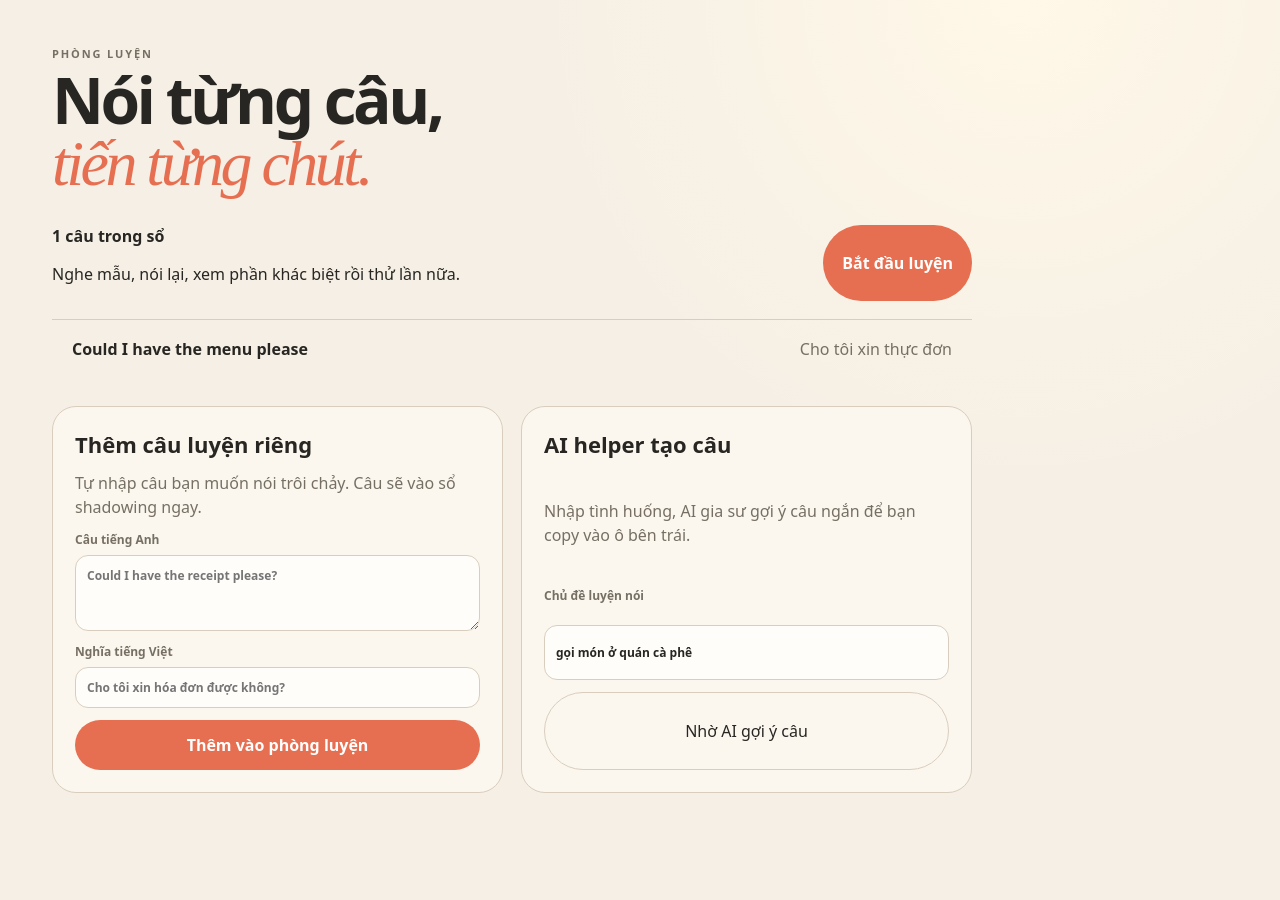
Scenario: PracticePage › starts a sentence session and shows transcript feedback
The width and height of the screenshot is (1280, 900).
Expected: the text "Could I have the menu please" is shown, [72,338,308,360]
Click the button "Bắt đầu luyện". click: (898, 263)
box: [823,225,972,301]
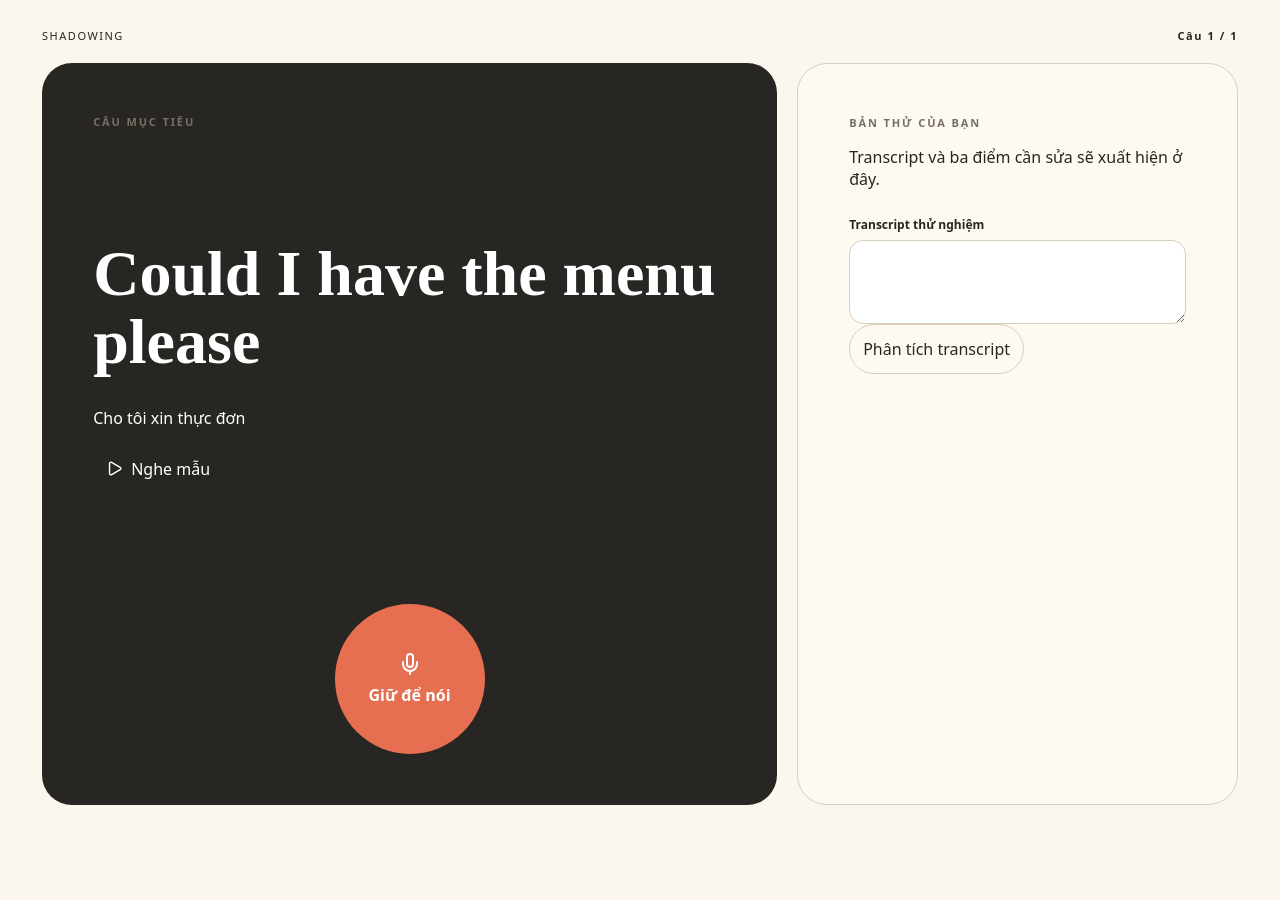
Result: the text "Câu 1 / 1" is shown at [1178,28,1238,43]
Type "Could I have menu please" into the text box labelled "Transcript thử nghiệm". click: (1018, 282)
box: [849,240,1186,324]
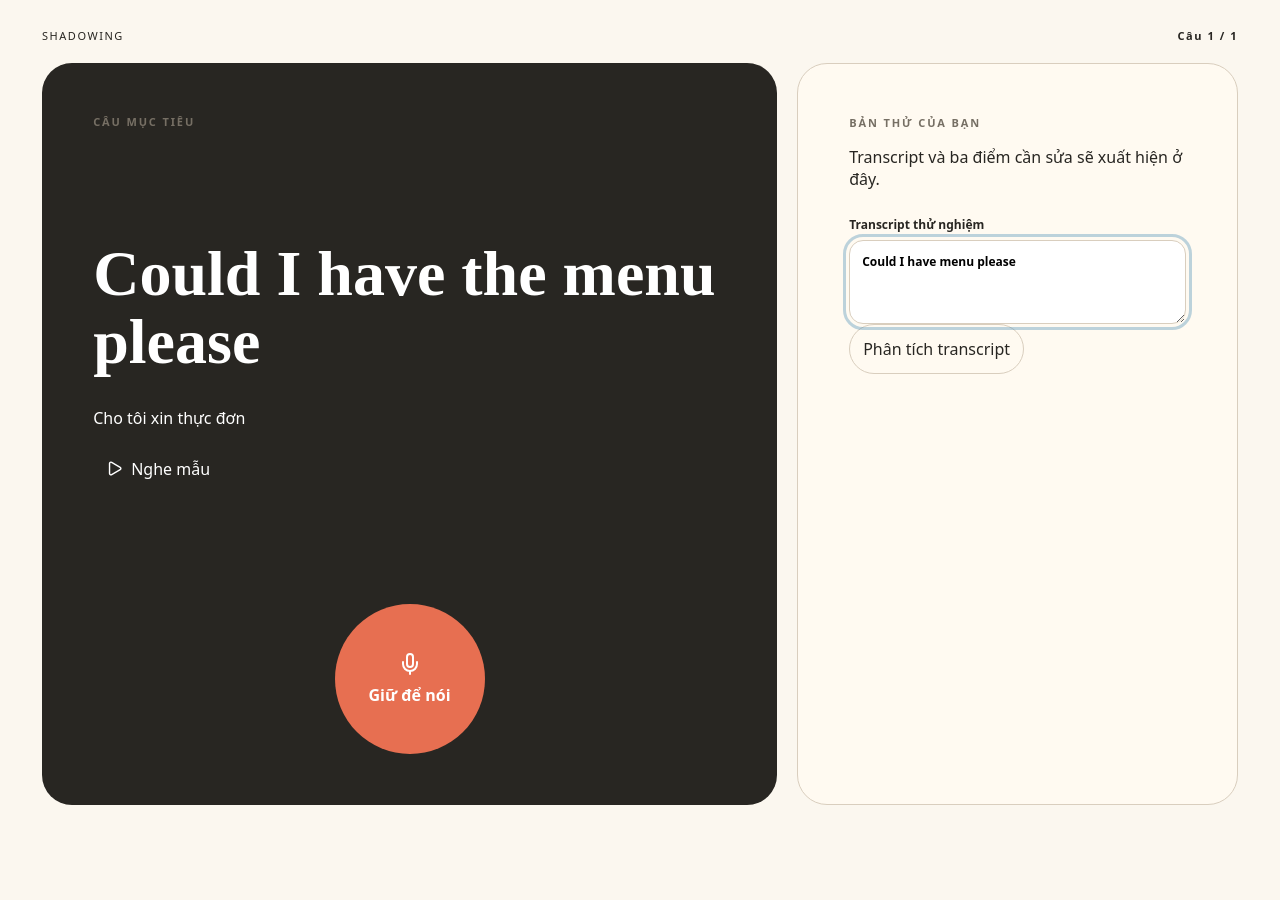
Click the button "Phân tích transcript". click: (937, 349)
box: [849,324,1024,374]
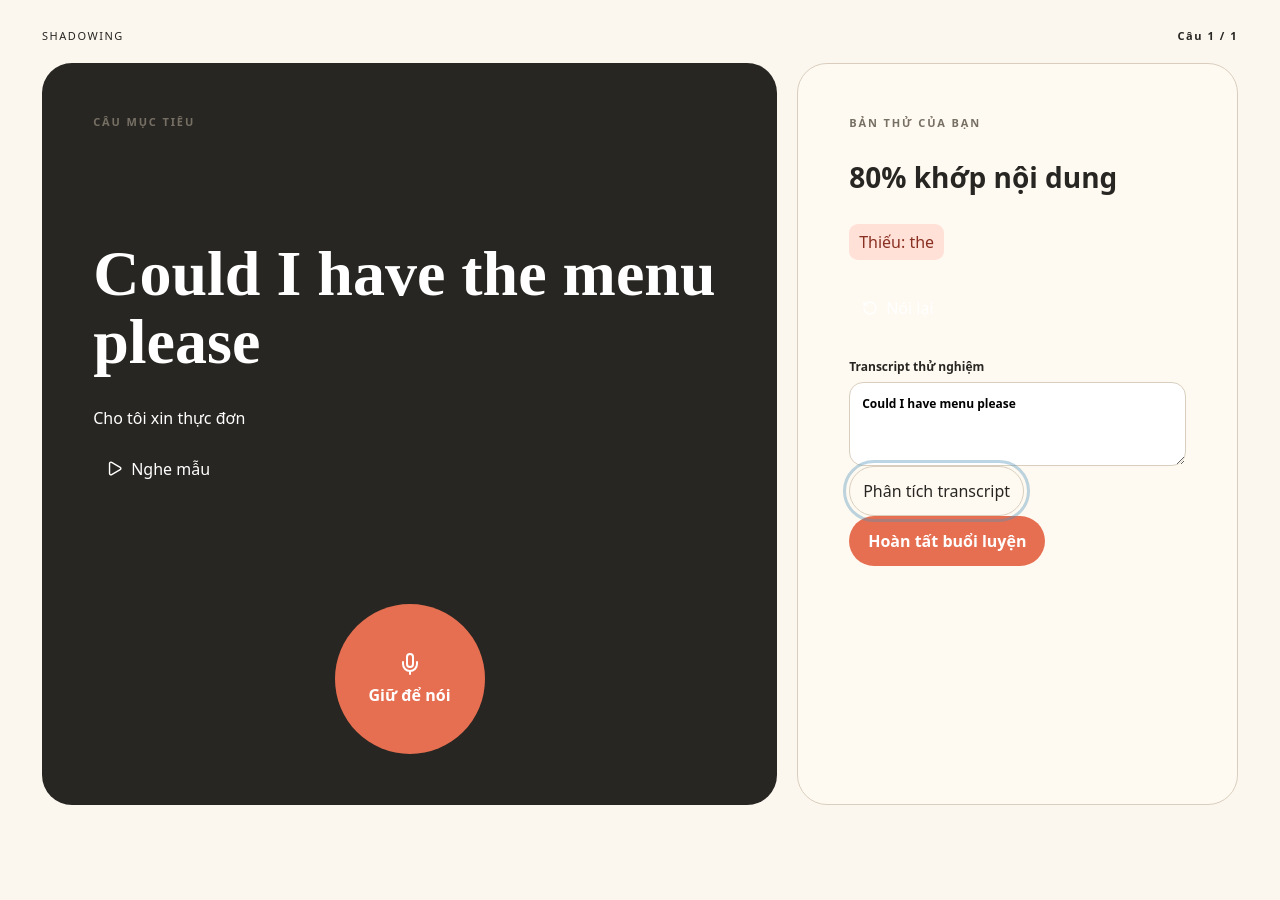
Result: the text "Thiếu: the" is shown at [849,224,944,260]
Result: the text "80% khớp nội dung" is shown at [849,158,1117,196]
Click the button "Hoàn tất buổi luyện". click: (947, 541)
box: [849,516,1046,566]
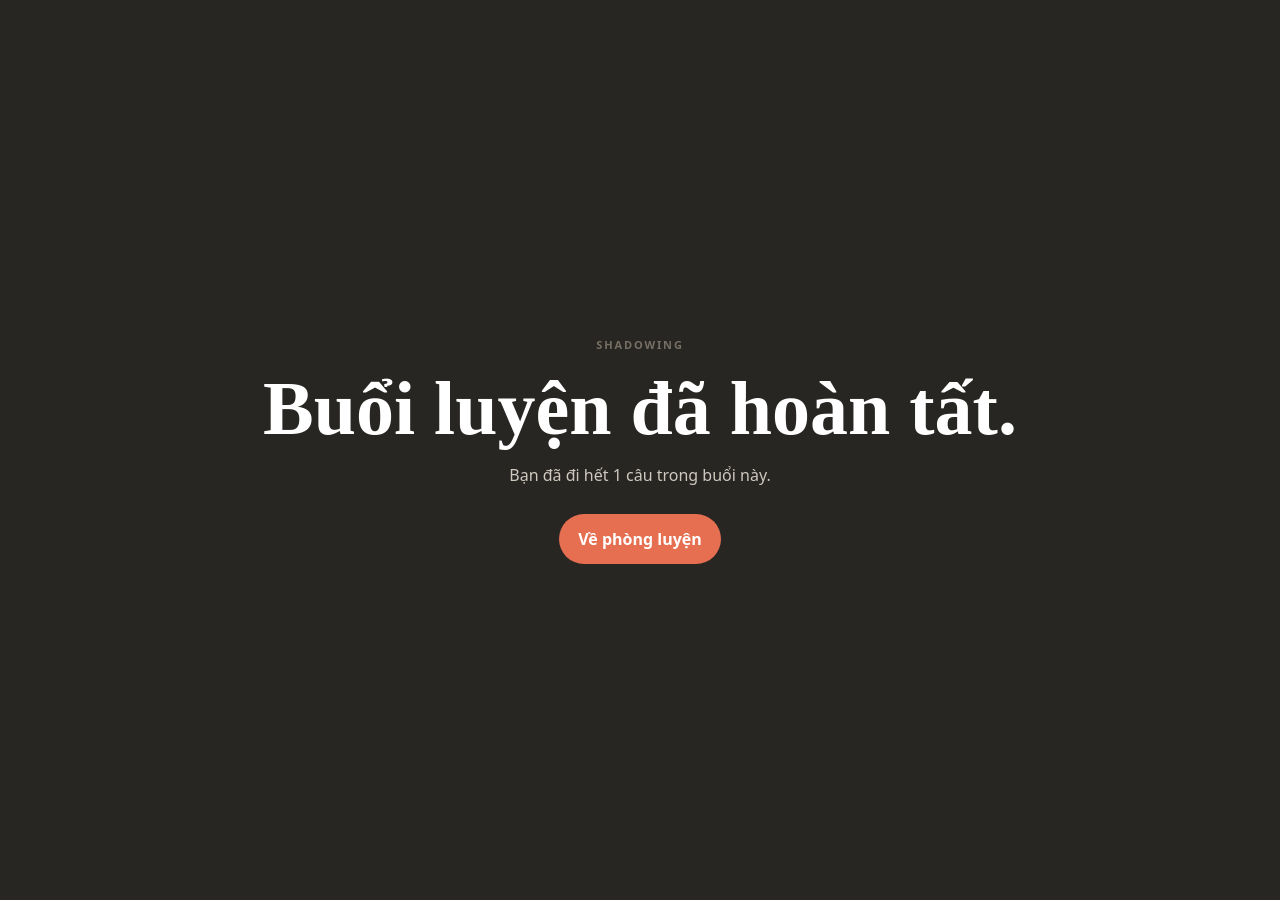
Result: the heading "Buổi luyện đã hoàn tất." is shown at [263,370,1017,446]
